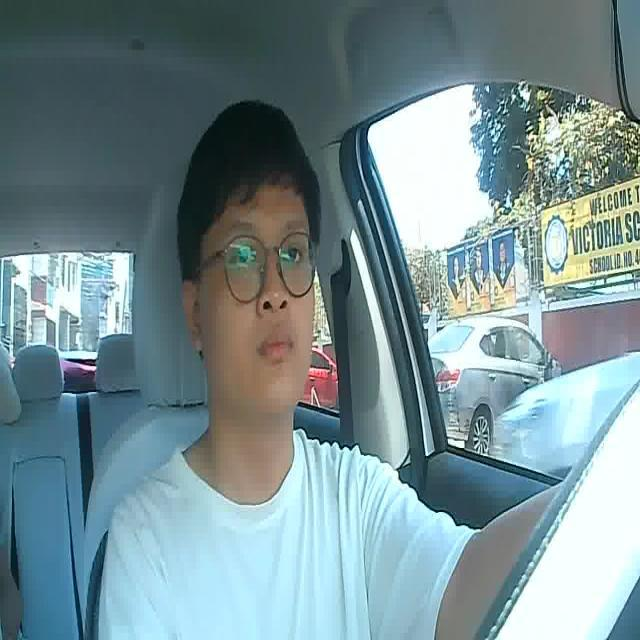Attentive: (181, 96, 323, 411)
Eye-Open: (230, 243, 256, 272), (279, 241, 305, 270)
Normal: (254, 330, 297, 363)
